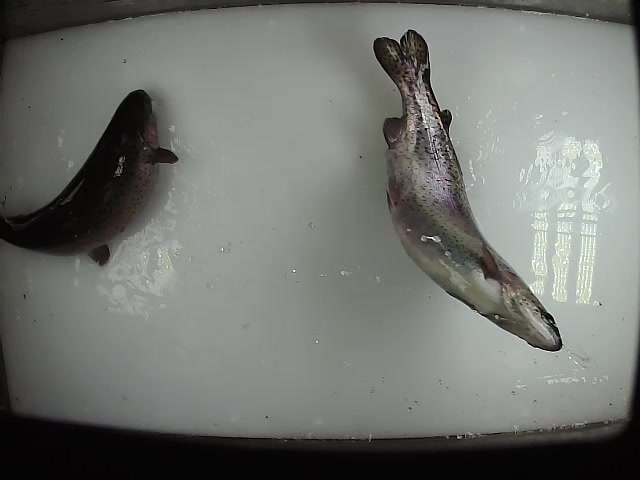fish: (371, 27, 564, 353), (1, 85, 185, 269)
